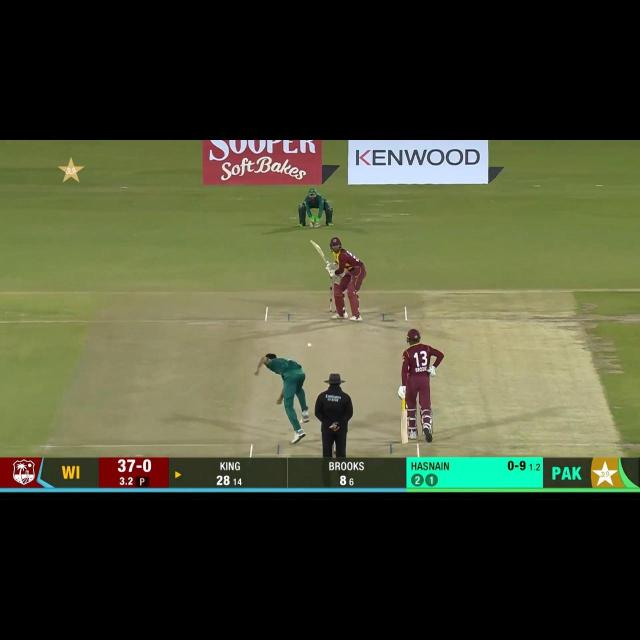bat: (306, 239, 328, 264), (400, 408, 410, 443)
toe: (399, 435, 410, 443), (305, 239, 316, 246)
